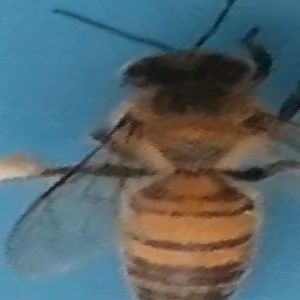bee: (47, 3, 300, 300)
